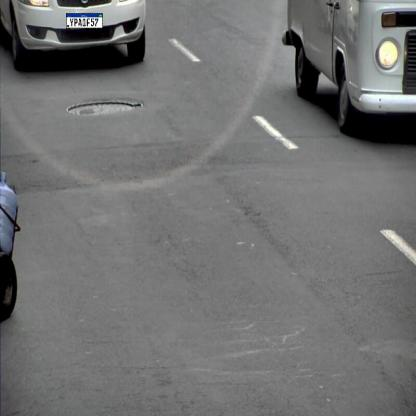PlacaM: (66, 13, 103, 29)
